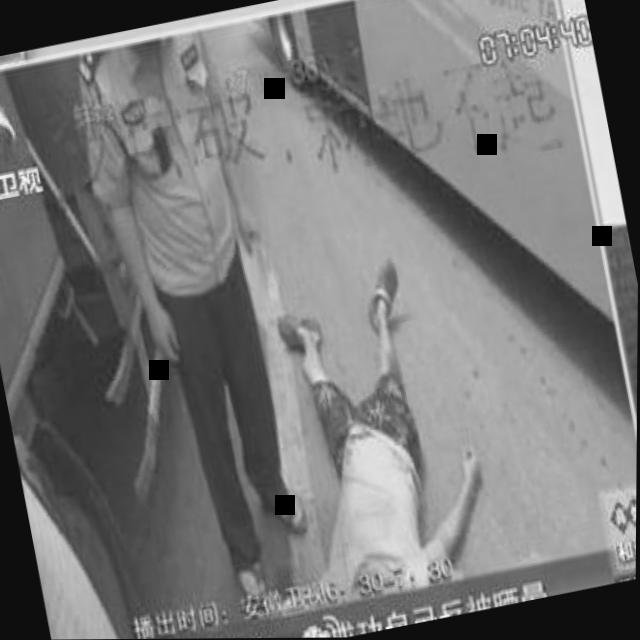Fall-Detected: (232, 224, 508, 620)
